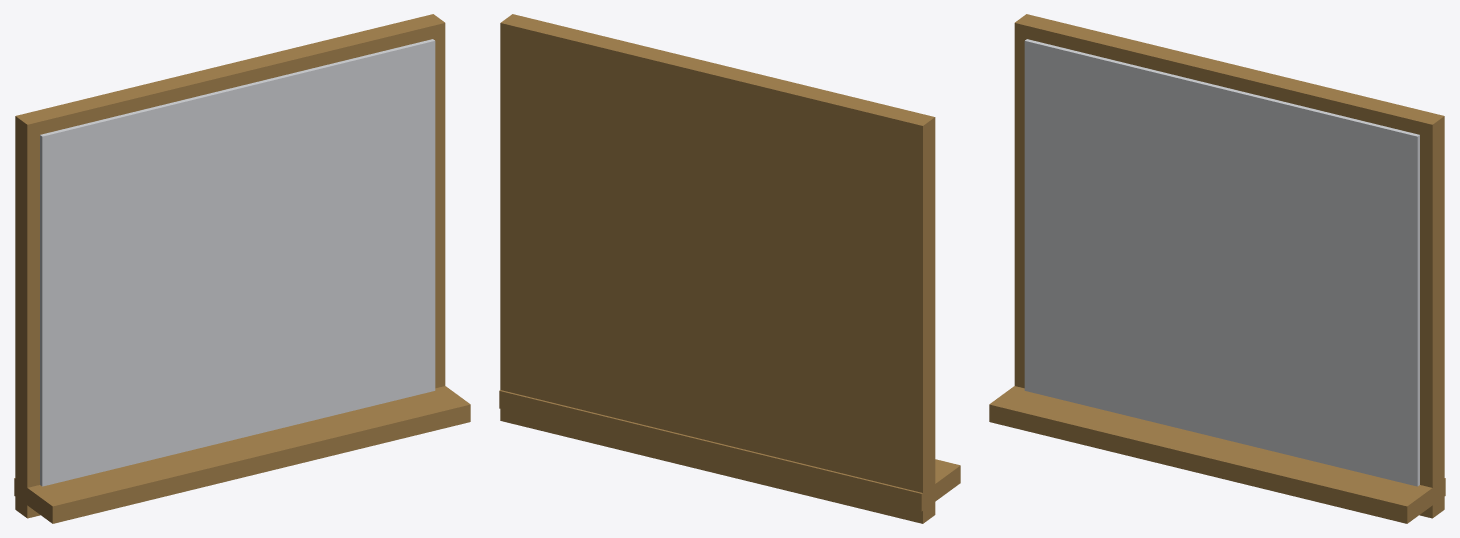
The picture shows the model from 3 angles, left to right: view 1: azimuth 30°, elevation 25°; view 2: azimuth 150°, elevation 25°; view 3: azimuth 330°, elevation 25°; orthographic projection.
Parts seen in each view (by area): view 1: mirror; view 2: mirror; view 3: mirror.
Part boxes in pixels (<box>): mirror: <box>14,14,470,523</box>; mirror: <box>499,14,960,523</box>; mirror: <box>989,14,1445,523</box>.
Size of the model in its own units: 1 by 0.9 by 0.16.
